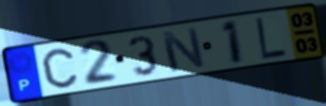1: (220, 18, 247, 66)
2: (77, 39, 120, 89)
3: (126, 34, 160, 78)
C: (40, 46, 80, 90)
L: (254, 16, 290, 61)
N: (158, 26, 208, 75)
